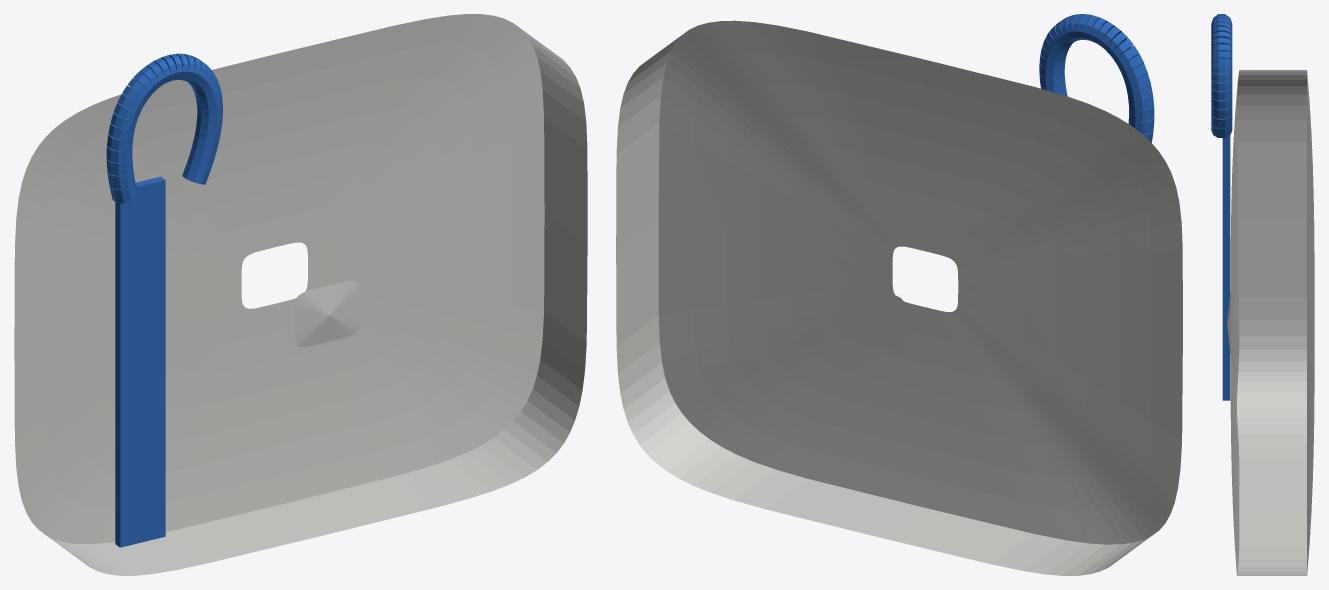
Rendered from lap_sponge_folded_proxy.glb.
3 views of the same model, side by side, from view 1: azimuth 30°, elevation 25°; view 2: azimuth 150°, elevation 25°; view 3: azimuth 270°, elevation 25° (orthographic). The views are drawn at different scales.
Visible parts, largest first — view 1: CottonBody, XrayMarkerRegion, CountingLoop; view 2: CottonBody, CountingLoop; view 3: CottonBody, CountingLoop, XrayMarkerRegion.
Part boxes in pixels (left/top/right/bottom): CottonBody: left=14, top=14, right=587, bottom=575; XrayMarkerRegion: left=115, top=176, right=165, bottom=547; CountingLoop: left=106, top=53, right=222, bottom=203; CottonBody: left=616, top=20, right=1182, bottom=575; CountingLoop: left=1039, top=14, right=1154, bottom=142; CottonBody: left=1227, top=70, right=1314, bottom=575; CountingLoop: left=1211, top=14, right=1232, bottom=137; XrayMarkerRegion: left=1222, top=135, right=1230, bottom=400.
Bounding box in the file's own units: 0.14 × 0.133 × 0.0295.
